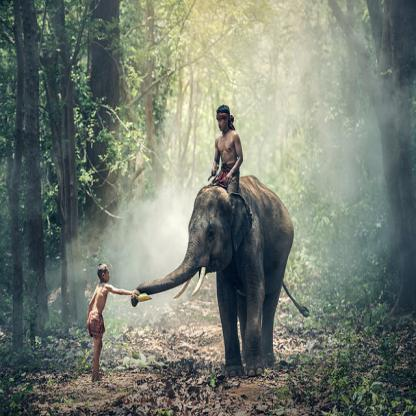elephant: (135, 178, 316, 385)
